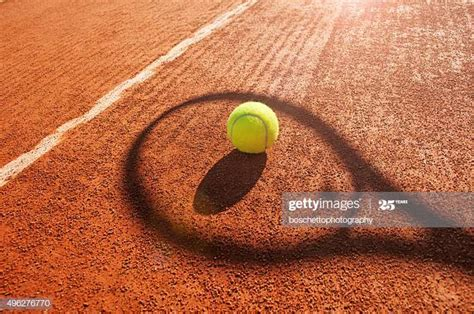tennis_ball: (227, 100, 280, 154)
